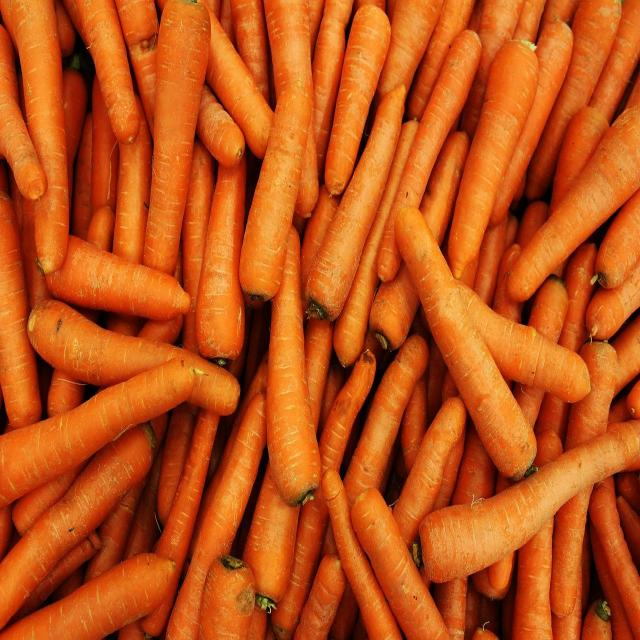carrot: (395, 204, 535, 487), (408, 429, 636, 573), (0, 424, 156, 629), (0, 358, 196, 507), (24, 294, 238, 424), (511, 95, 640, 303), (171, 389, 273, 640), (171, 384, 271, 640), (0, 0, 72, 274), (396, 37, 480, 270), (317, 88, 399, 316), (450, 44, 530, 276), (147, 0, 213, 280), (352, 487, 451, 640), (268, 227, 322, 507), (0, 556, 175, 640), (245, 82, 309, 301), (327, 9, 387, 193), (63, 0, 136, 146)
